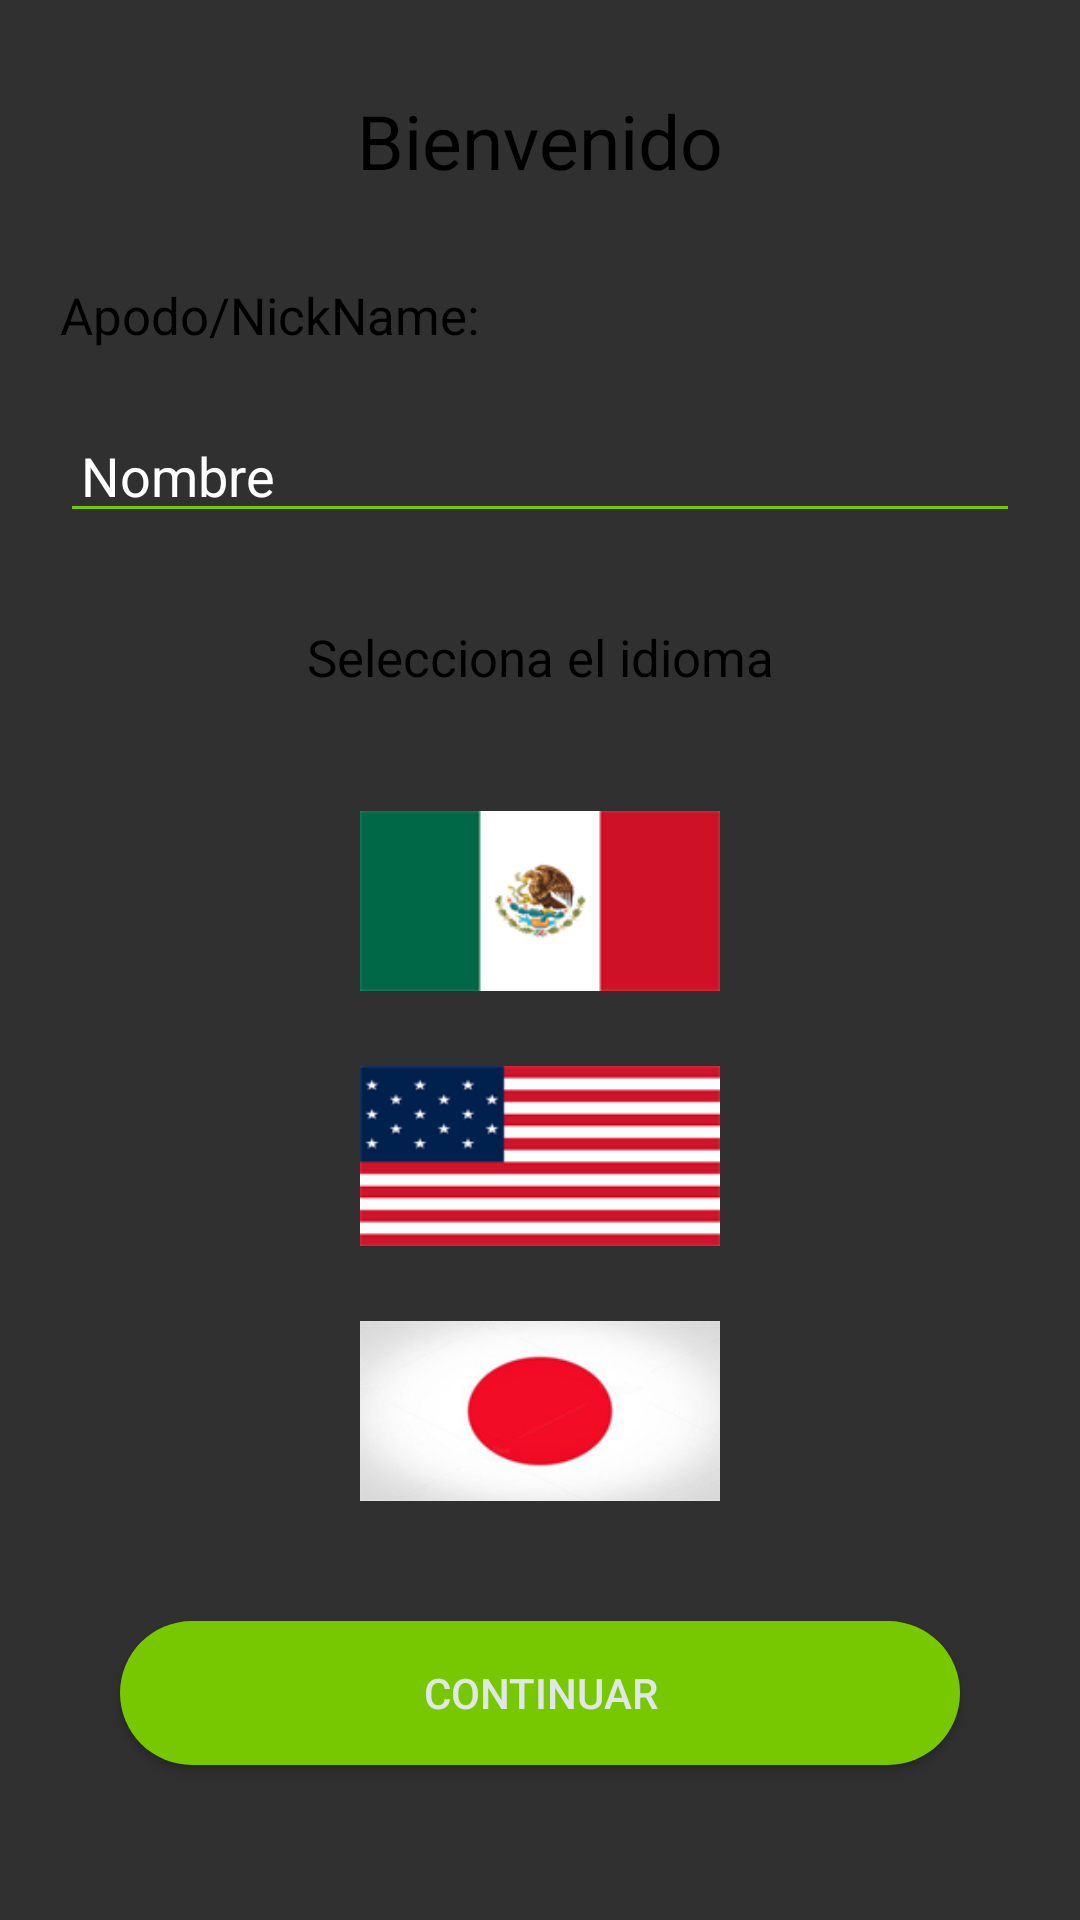

Locate icon controls on the screen. Image size 1080x1920, boxes as (x1, y1, x2, y2).
ingles: (360, 1066, 720, 1246)
japones: (360, 1321, 720, 1501)
mexico: (360, 811, 720, 991)
